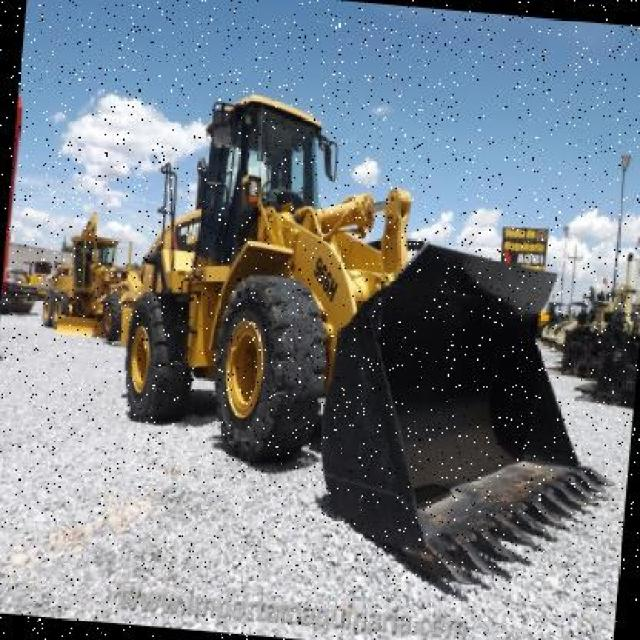buldozerpayloadergrader: (104, 76, 640, 609)
